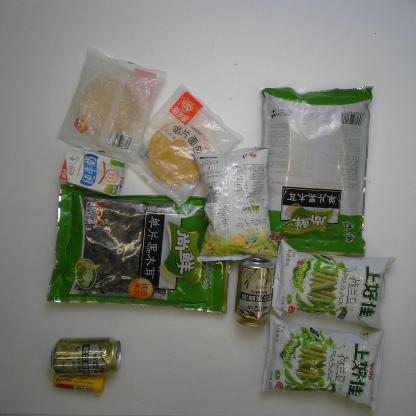Alcohol: (234, 255, 274, 329), (51, 336, 122, 377)
Candy: (52, 369, 105, 396)
Dessert: (126, 82, 242, 209), (56, 47, 167, 166)
Dried Food: (46, 184, 232, 316), (258, 85, 376, 258)
Milk: (57, 145, 130, 202)
Puffed Food: (260, 313, 386, 413), (270, 238, 398, 332), (189, 143, 281, 265)
